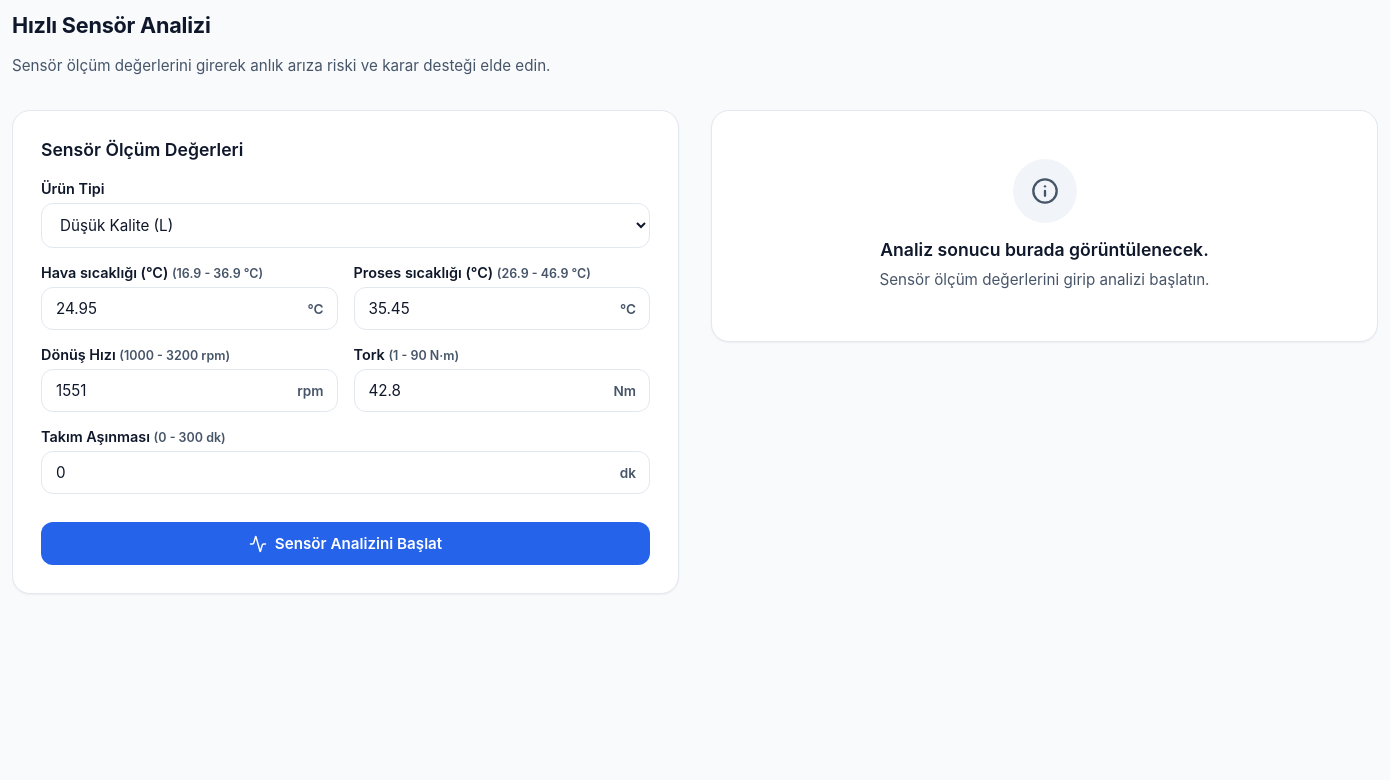
it: HizliAnaliz › düşük riskli analiz sonucunu ve mesajını doğru gösterir
Click the button "Sensör Analizini Başlat". click: (346, 544)
box: [41,522,650,565]
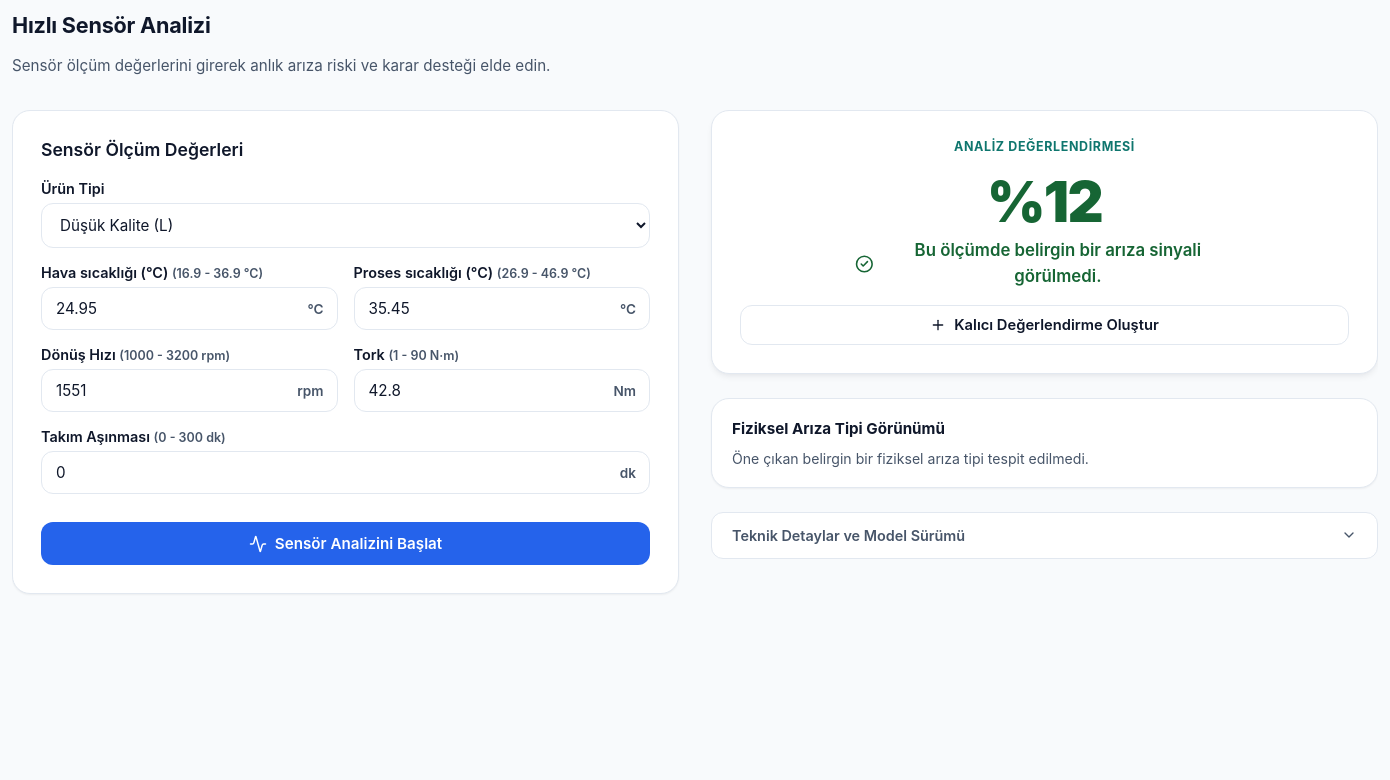
Now the text "%12" is shown, box [987,174,1102,230]
Now the text "Bu ölçümde belirgin bir arıza sinyali görülmedi." is shown, box [915,240,1201,286]
